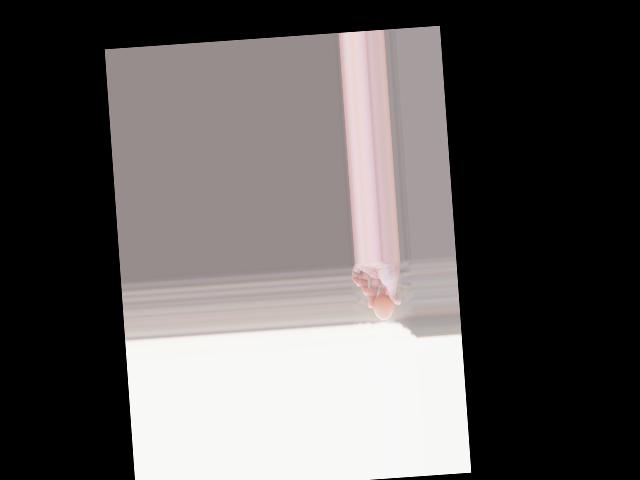egg: (372, 294, 394, 320)
